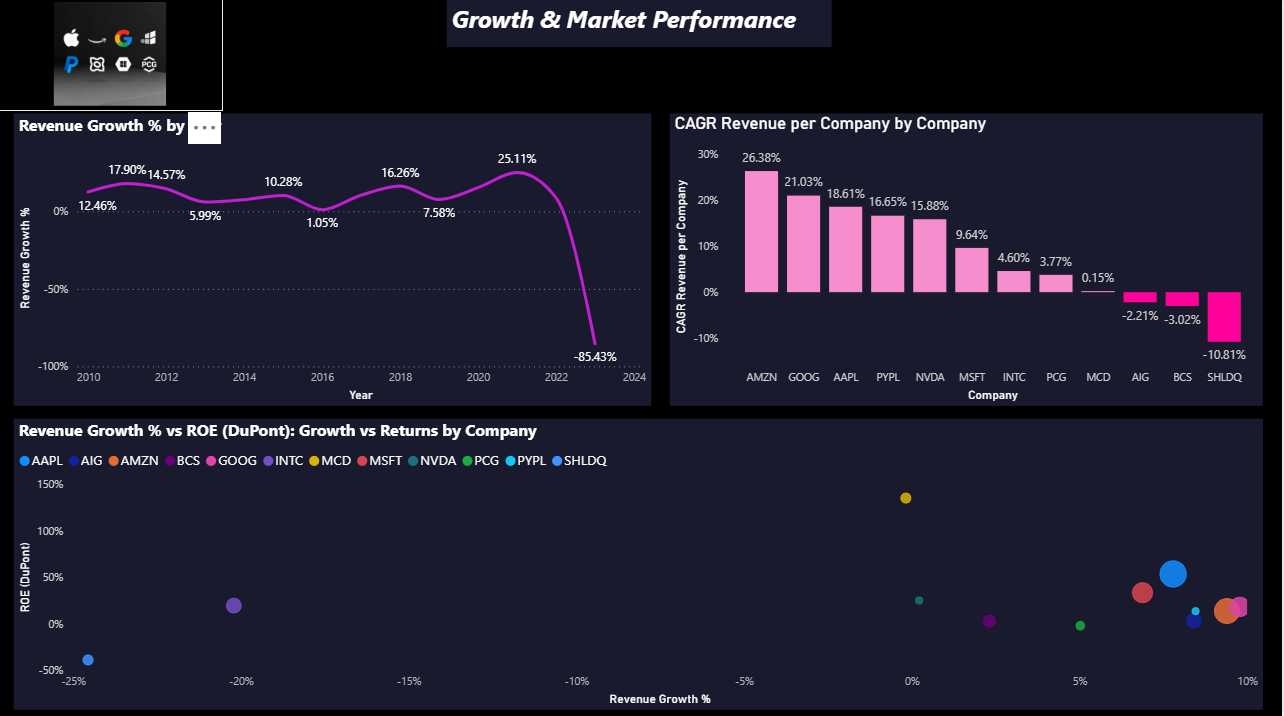

What the dashboard file says about the page in this screenshot:
{"tool":"powerbi","page":{"name":"Growth & Market Performance","canvas":[1280,720],"ordinal":4},"visuals":[{"type":"textbox","box":[447.4,0,384.1,50.3],"z":0},{"type":"lineChart","fields":{"Category":["Financial Statements.Year"],"Y":["Key_Measure.Revenue Growth %"]},"box":[15.6,116.1,635.8,291.7],"z":1000},{"type":"columnChart","fields":{"Category":["Dim_Company.Company "],"Y":["Key_Measure.CAGR Revenue per Company"]},"box":[669.7,116.1,591.9,291.7],"z":2000},{"type":"scatterChart","title":"Revenue Growth % vs ROE (DuPont): Growth vs Returns by Company","fields":{"X":["Key_Measure.Revenue Growth %"],"Y":["Key_Measure.ROE (DuPont)"],"Series":["Dim_Company.Company "],"Size":["Key_Measure.Total Revenue"]},"box":[15.6,420.5,1246,290.3],"z":3000},{"type":"image","box":[0,0,223.7,113.3],"z":4000}]}

Visuals, with their boxes on the page's 1280x720 design canvas (x1, y1, x2, y2). These are canvas units, not pixel positions in the 1284x716 screenshot, which may show the page scaled, cropped or inside an application window:
textbox: {"left": 447, "top": 0, "right": 832, "bottom": 50}
lineChart - Financial Statements.Year x Key_Measure.Revenue Growth %: {"left": 16, "top": 116, "right": 651, "bottom": 408}
columnChart - Dim_Company.Company  x Key_Measure.CAGR Revenue per Company: {"left": 670, "top": 116, "right": 1262, "bottom": 408}
"Revenue Growth % vs ROE (DuPont): Growth vs Returns by Company" scatterChart: {"left": 16, "top": 420, "right": 1262, "bottom": 711}
image: {"left": 0, "top": 0, "right": 224, "bottom": 113}
